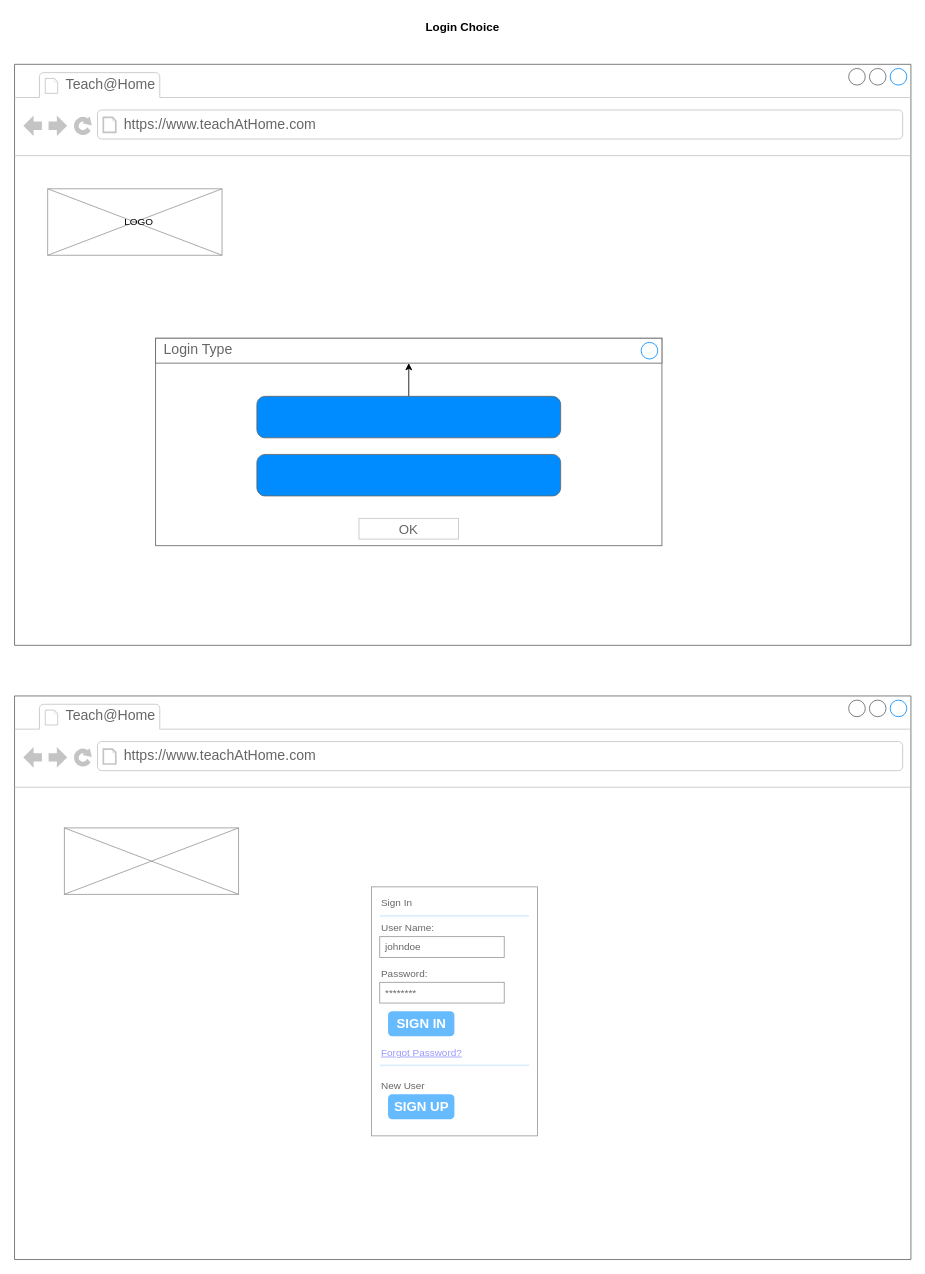
The diagram is 925 pixels wide and 1274 high, and some of its shapes have lost their labels. The shapes that lost their labels are listed below. From the top down, each one's centre as x and y in pixels, then its label:
At (x=408, y=416): "connexion en tant qu'élève".
At (x=408, y=475): "connexion en tant que professeur".
